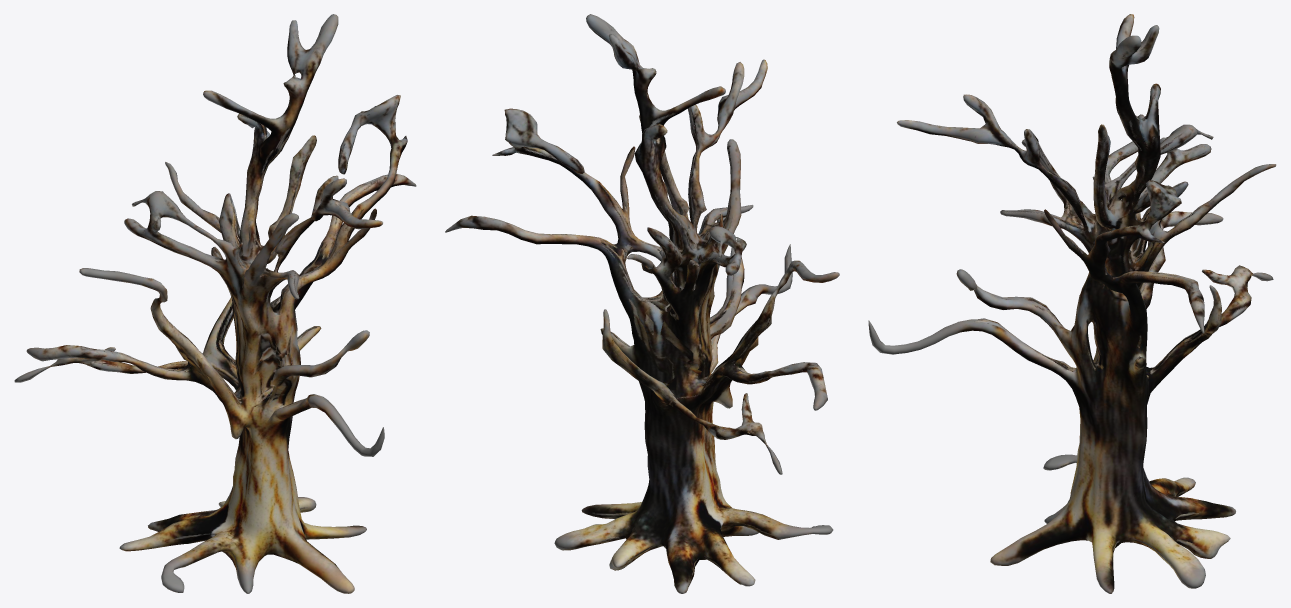
Rendered from 1ad606e38c9c_dried_tree_min.fbx.
The picture shows the model from 3 angles, left to right: view 1: azimuth 30°, elevation 25°; view 2: azimuth 150°, elevation 25°; view 3: azimuth 270°, elevation 25°; orthographic projection. The views are drawn at different scales.
Parts seen in each view (by area): view 1: mesh; view 2: mesh; view 3: mesh.
Part boxes in pixels (x1,y1,x2,y2): mesh: (14, 14, 416, 593); mesh: (445, 14, 839, 593); mesh: (868, 14, 1276, 593).
Size of the model in its own units: 76.64 by 99.61 by 66.28.
